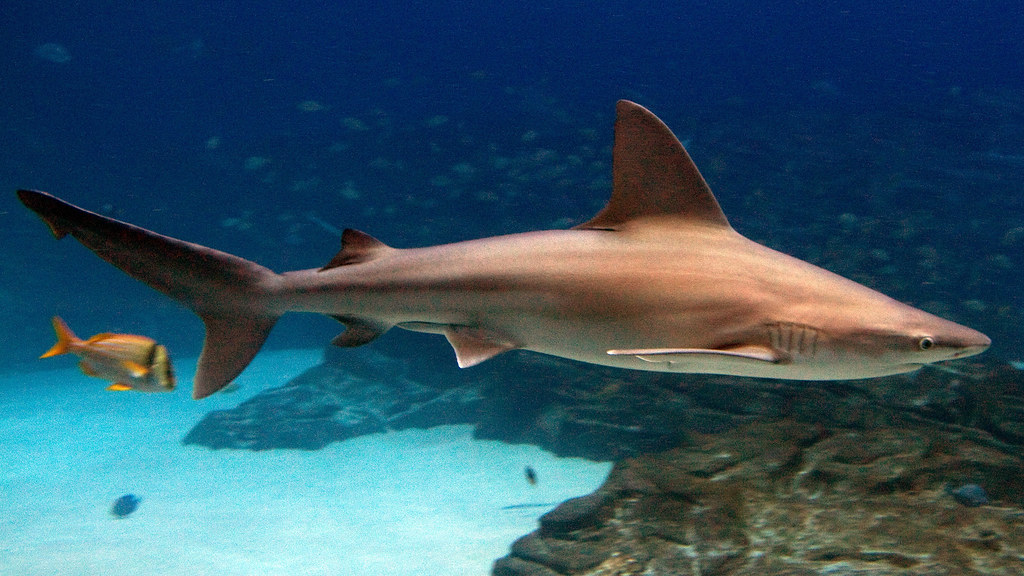shark: (14, 86, 1001, 407)
